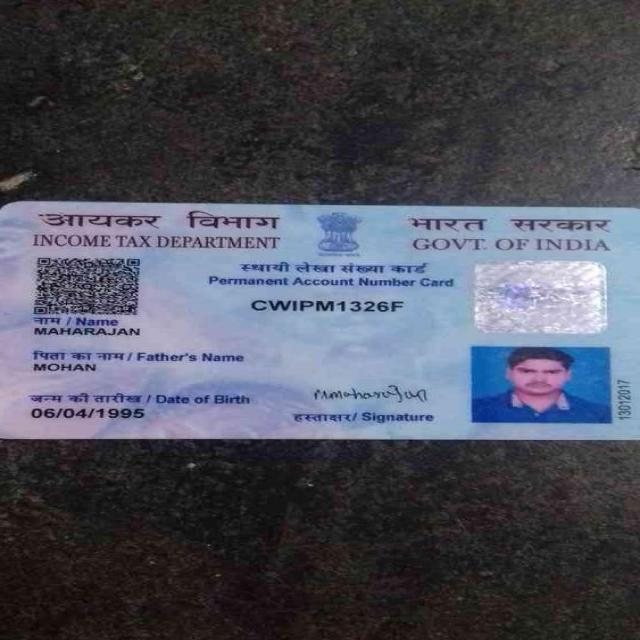pan_card: (5, 205, 640, 432)
